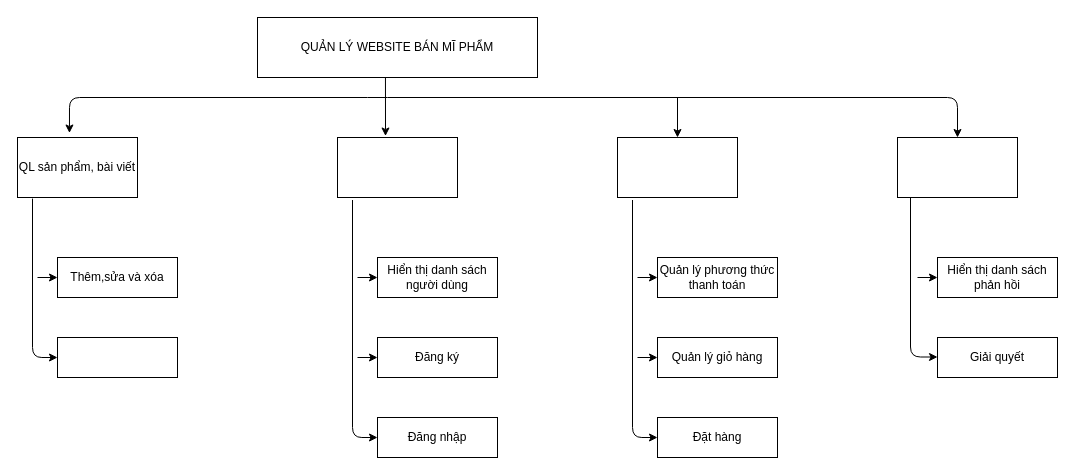
Image size: 1075x475. Some labels were removed from this diagram. Each missing label, with the box of its shape:
Hiển thị nội dung: (56, 336, 178, 378)
QL người dùng: (336, 136, 458, 198)
QL phản hồi: (896, 136, 1018, 198)
QL đơn hàng: (616, 136, 738, 198)
